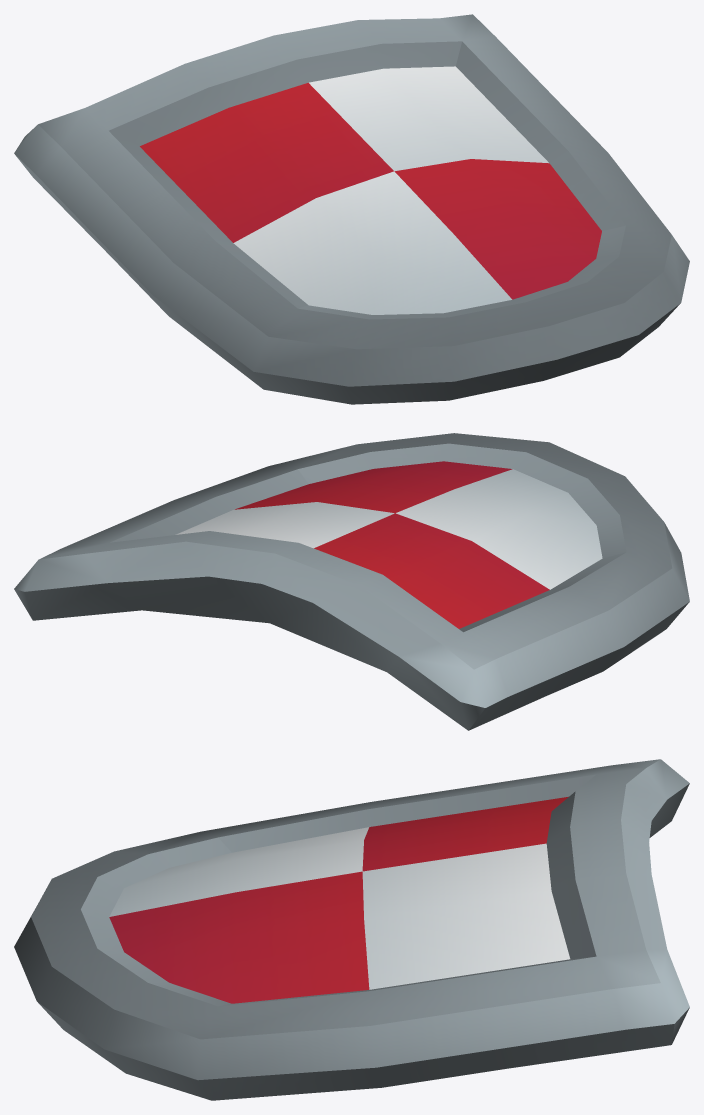
Rendered from Shield_.fbx.
The picture shows the model from 3 angles, top to bottom: view 1: azimuth 30°, elevation 25°; view 2: azimuth 150°, elevation 25°; view 3: azimuth 270°, elevation 25°; orthographic projection. The views are drawn at different scales.
Visible parts, largest first — view 1: Shield; view 2: Shield; view 3: Shield.
Part boxes in pixels (x1,y1,x2,y2): Shield: (14,14,689,404); Shield: (14,433,689,730); Shield: (14,759,689,1100).
Size of the model in its own units: 8832 by 3141 by 10214.
